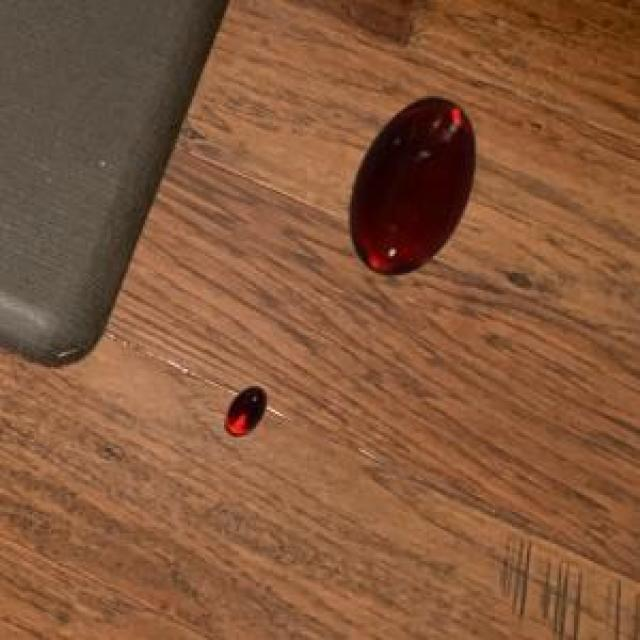Medicol: (333, 73, 489, 290), (217, 380, 274, 448)
